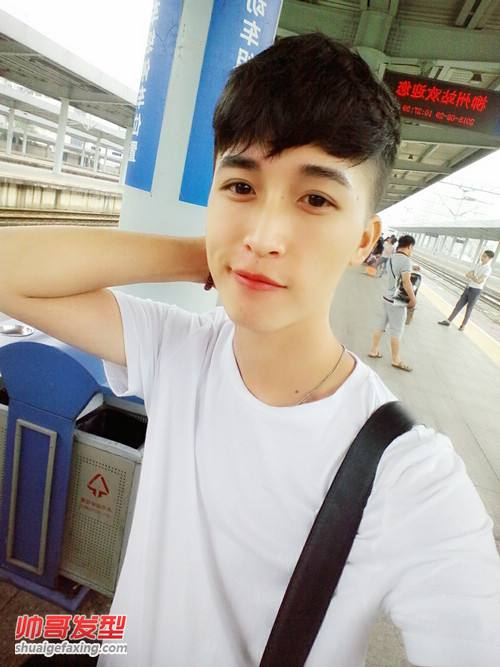person: (116, 13, 455, 551)
